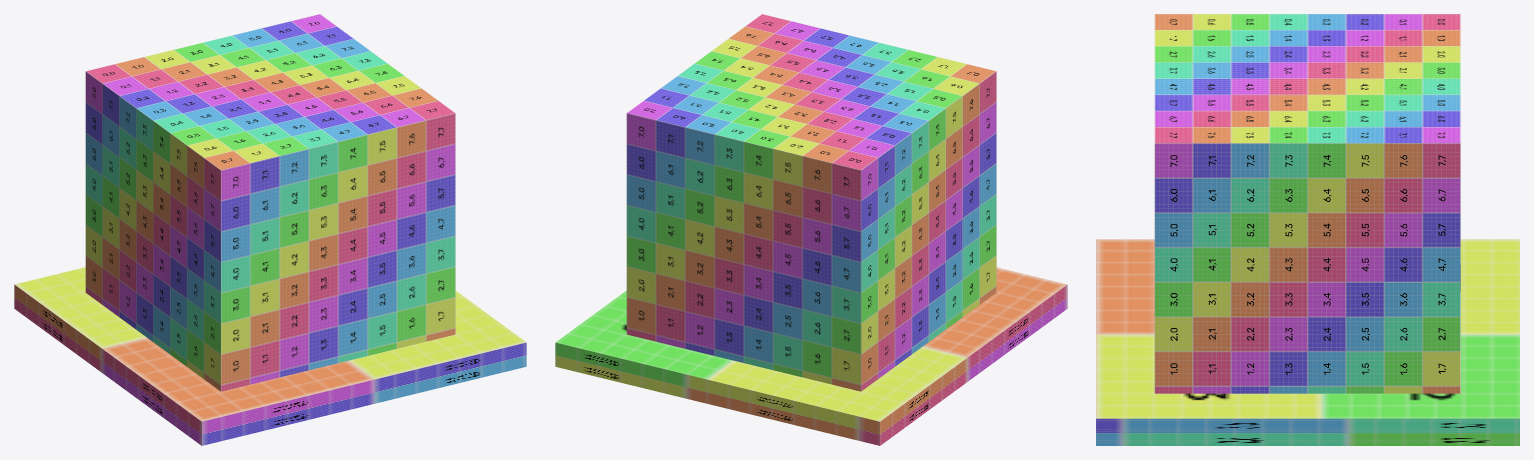
File: square.obj
3 renders of one model, left to right at view 1: azimuth 30°, elevation 25°; view 2: azimuth 150°, elevation 25°; view 3: azimuth 270°, elevation 25°, orthographic. The views are drawn at different scales.
Parts seen in each view (by area): view 1: Cube; view 2: Cube; view 3: Cube.
Boxes of the visible parts, <box> form: Cube: <box>14,14,526,445</box>; Cube: <box>555,14,1067,445</box>; Cube: <box>1096,14,1519,445</box>.
Size of the model in its own units: 2 by 1.45 by 2.
